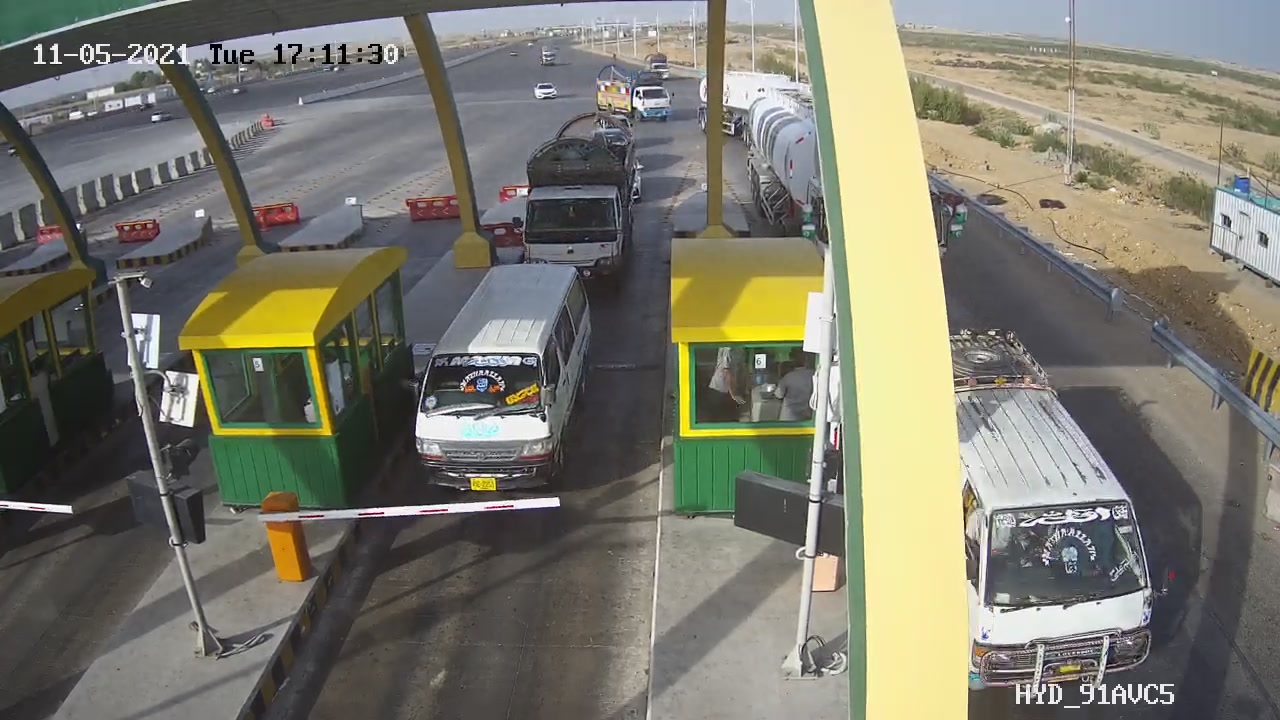F5: (494, 105, 657, 313)
